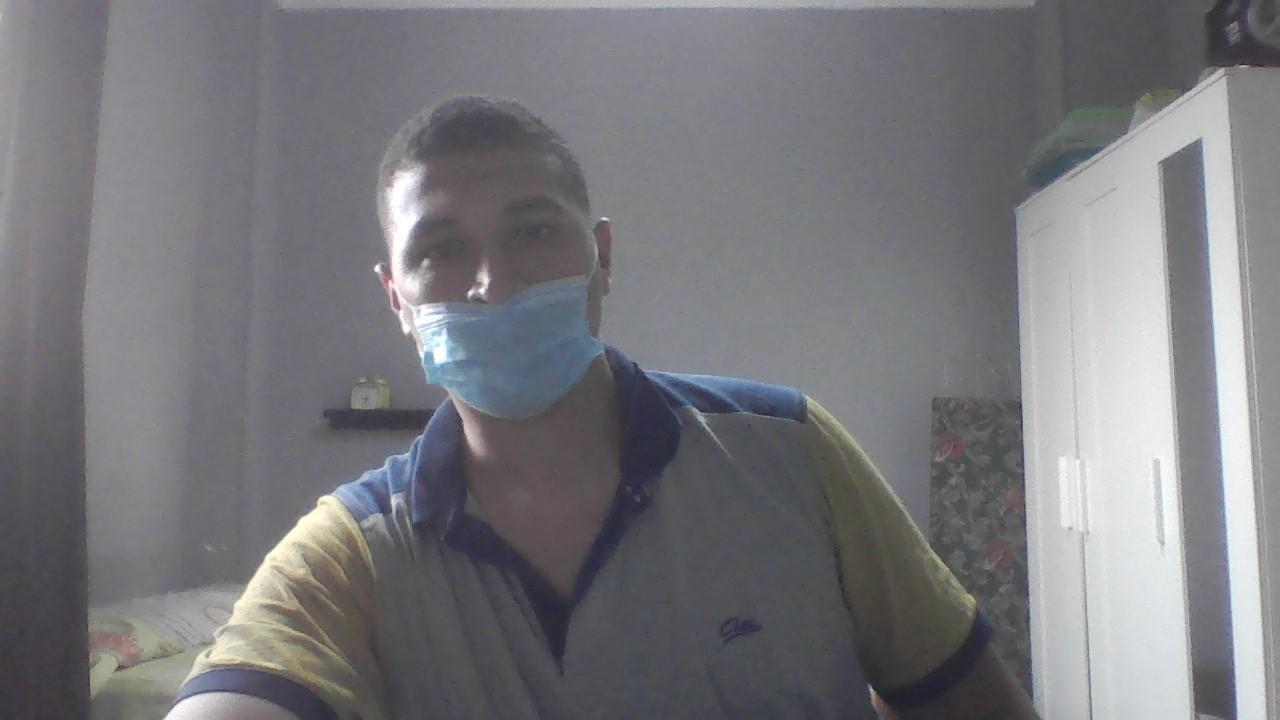mask_weared_incorrect: (384, 119, 614, 431)
